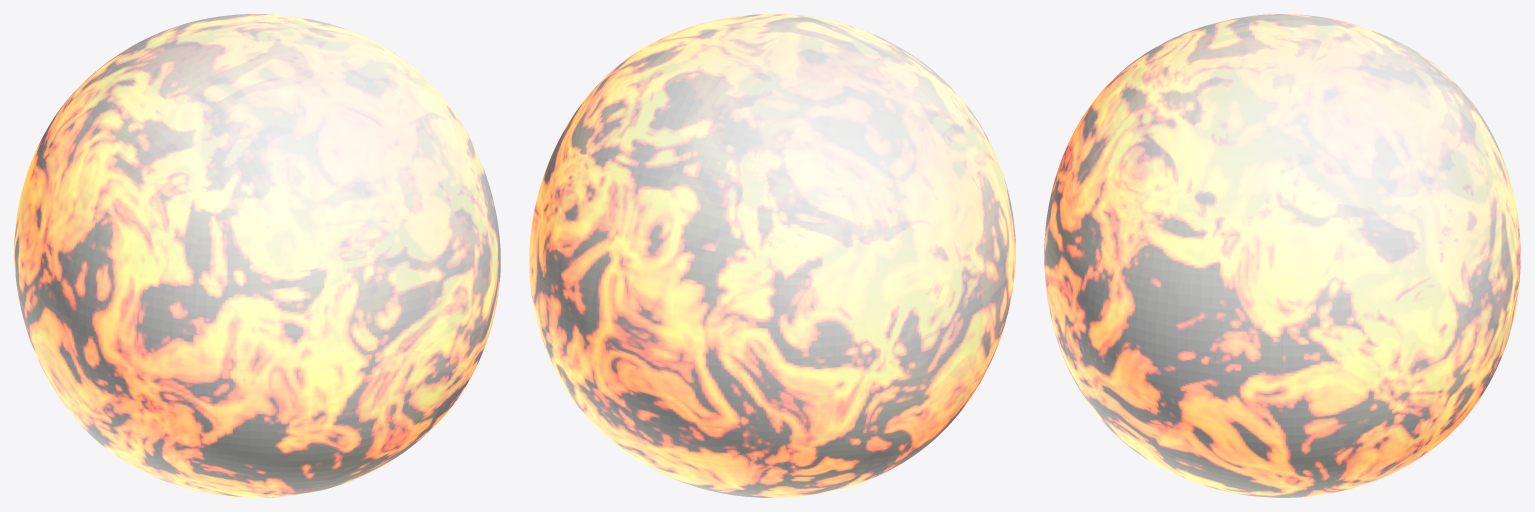
File: fireball.gltf
The picture shows the model from 3 angles, left to right: view 1: azimuth 30°, elevation 25°; view 2: azimuth 150°, elevation 25°; view 3: azimuth 270°, elevation 25°; orthographic projection.
Parts seen in each view (by area): view 1: Cube; view 2: Cube; view 3: Cube.
Part boxes in pixels (left/top/right/bottom): Cube: left=14, top=14, right=500, bottom=497; Cube: left=529, top=14, right=1015, bottom=497; Cube: left=1044, top=14, right=1520, bottom=497.
Bounding box in the file's own units: 16.79 × 16.79 × 16.79.
1 material, 1 textured.
